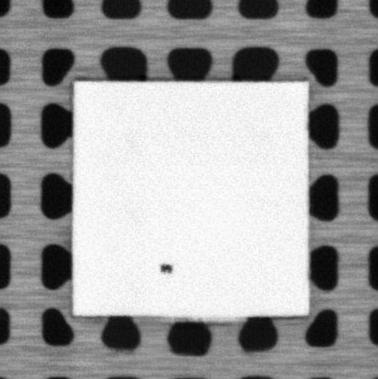DIE_INK: (157, 261, 174, 274)
